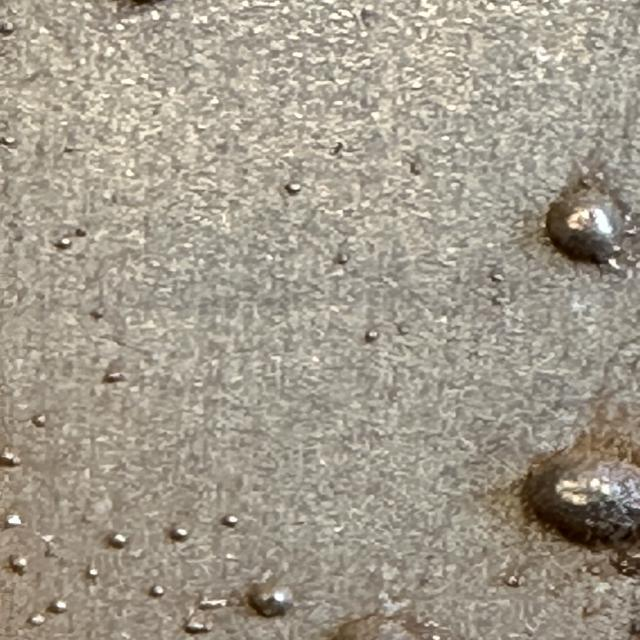Spatters: (170, 526, 190, 542), (223, 516, 239, 528)
